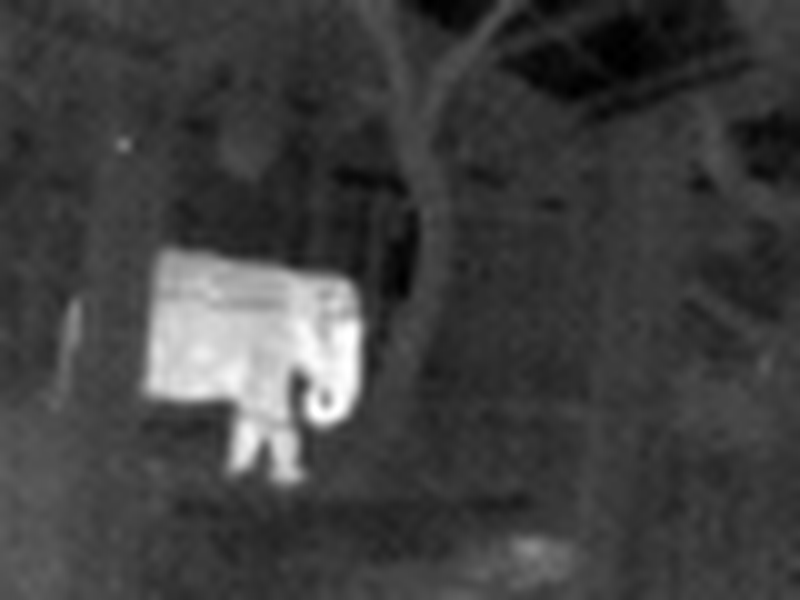elephant: (60, 249, 363, 481)
